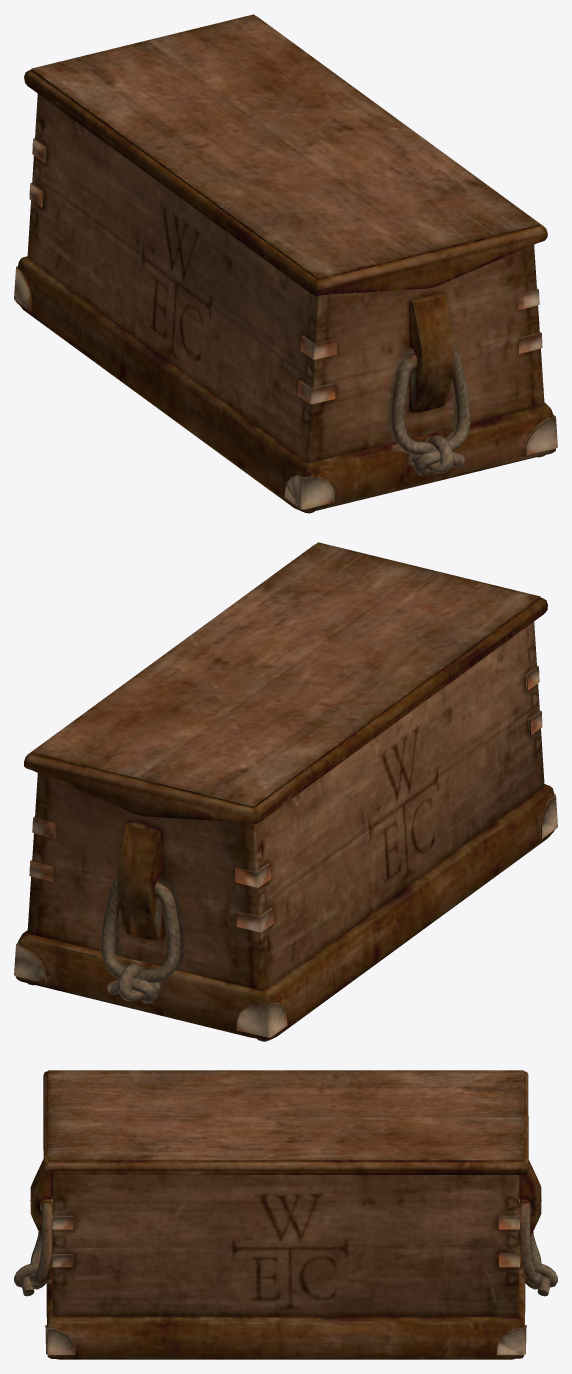
The model's file is wooden_crate_02.glb.
3 renders of one model, top to bottom at view 1: azimuth 30°, elevation 25°; view 2: azimuth 150°, elevation 25°; view 3: azimuth 270°, elevation 25°, orthographic. The views are drawn at different scales.
Parts seen in each view (by area): view 1: wooden_crate_02; view 2: wooden_crate_02; view 3: wooden_crate_02.
Part boxes in pixels (<box>): wooden_crate_02: <box>14,14,557,513</box>; wooden_crate_02: <box>14,542,557,1041</box>; wooden_crate_02: <box>14,1070,557,1359</box>.
Size of what is drawn, in the model's own units: 0.5291 by 0.464 by 1.17.
Materials: 1 (1 with a texture image).
